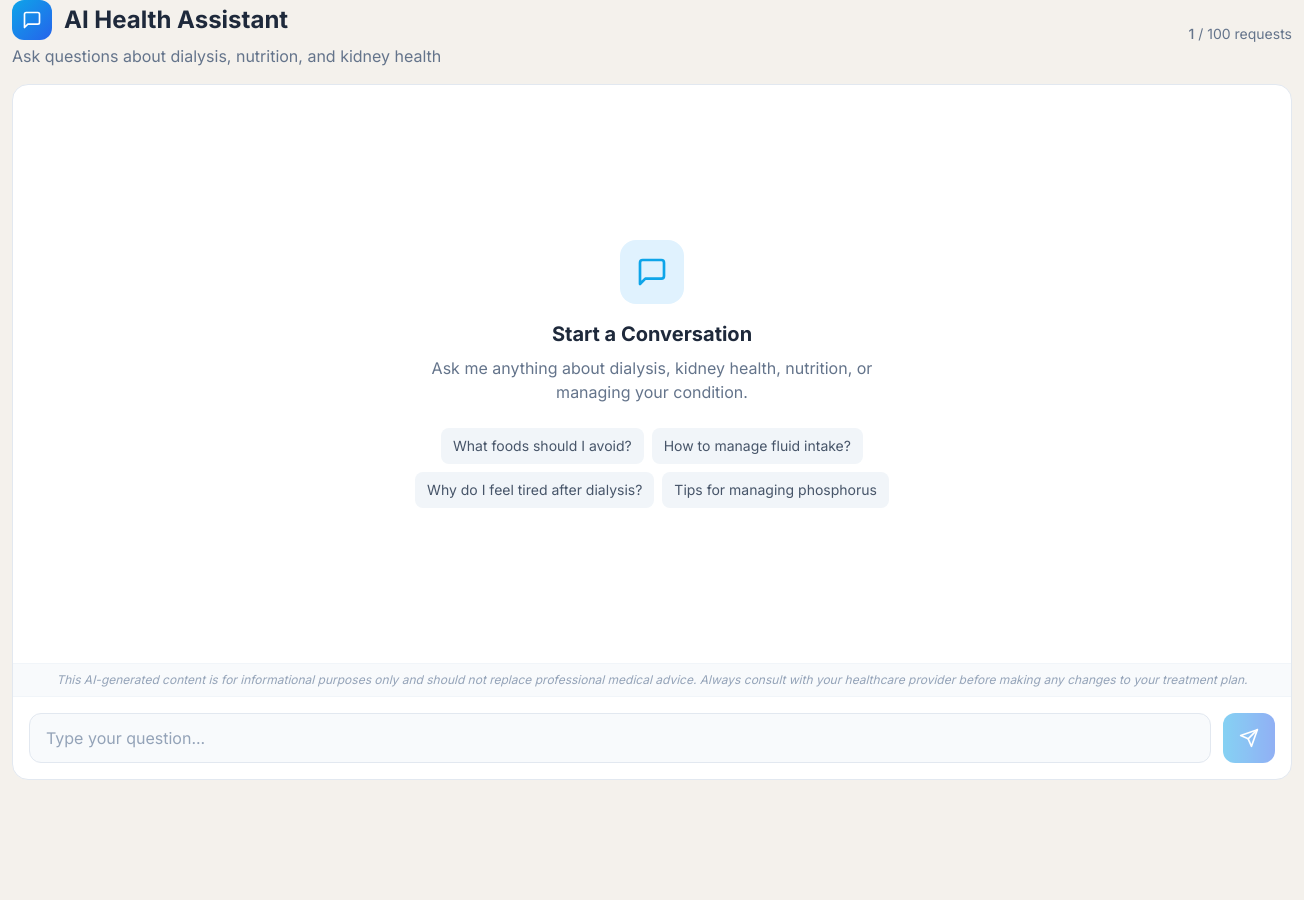
it: AI rate-limit + feature-gate error paths › AIChat: SubscriptionLimitError renders limit UI, not ErrorBoundary
Type "will hit the limit" into the text box with placeholder "Type your question...". click: point(620, 738)
box: [29,713,1211,763]
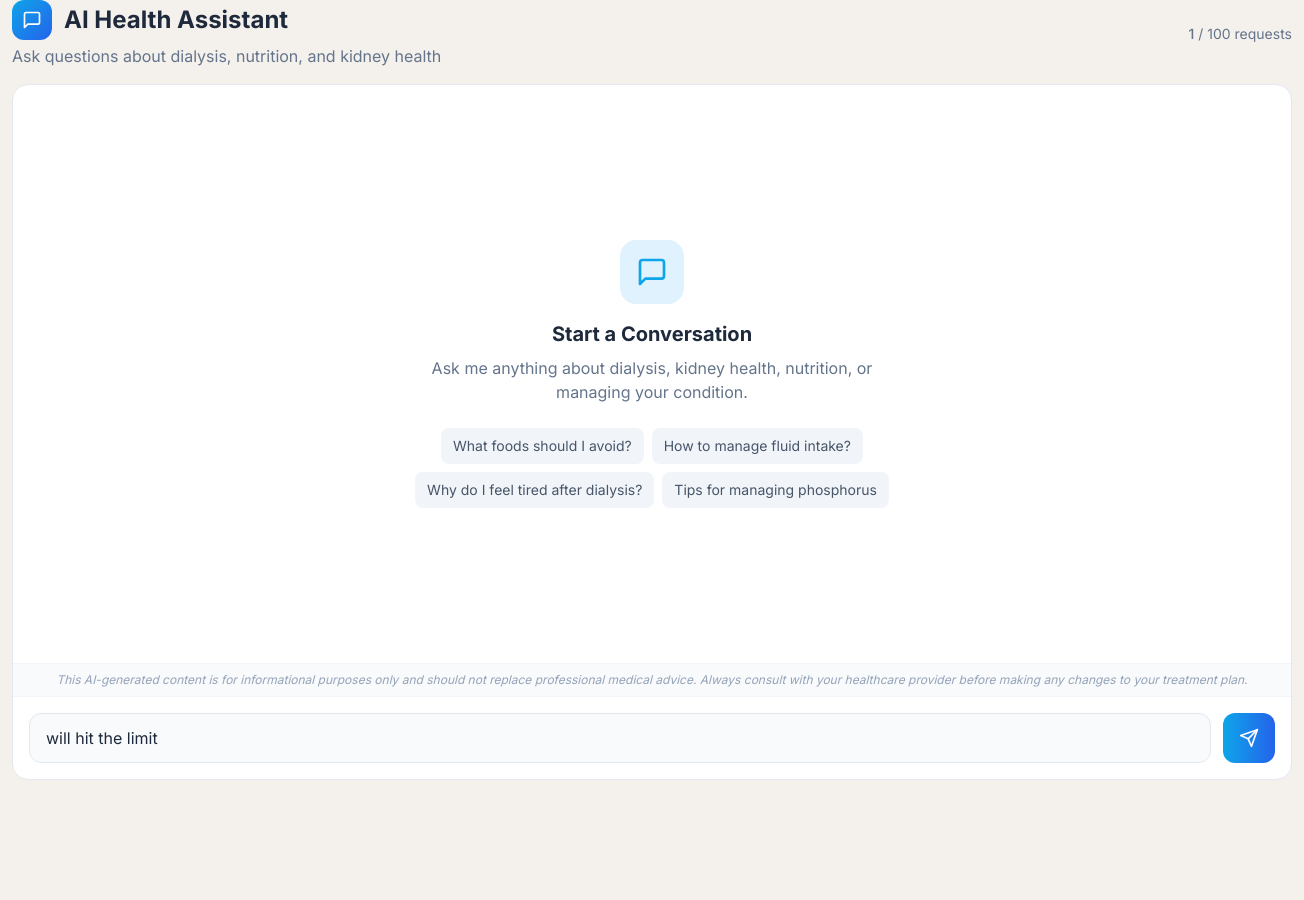
Click the 5th button. click: point(1249, 738)
box: [1223,713,1275,763]
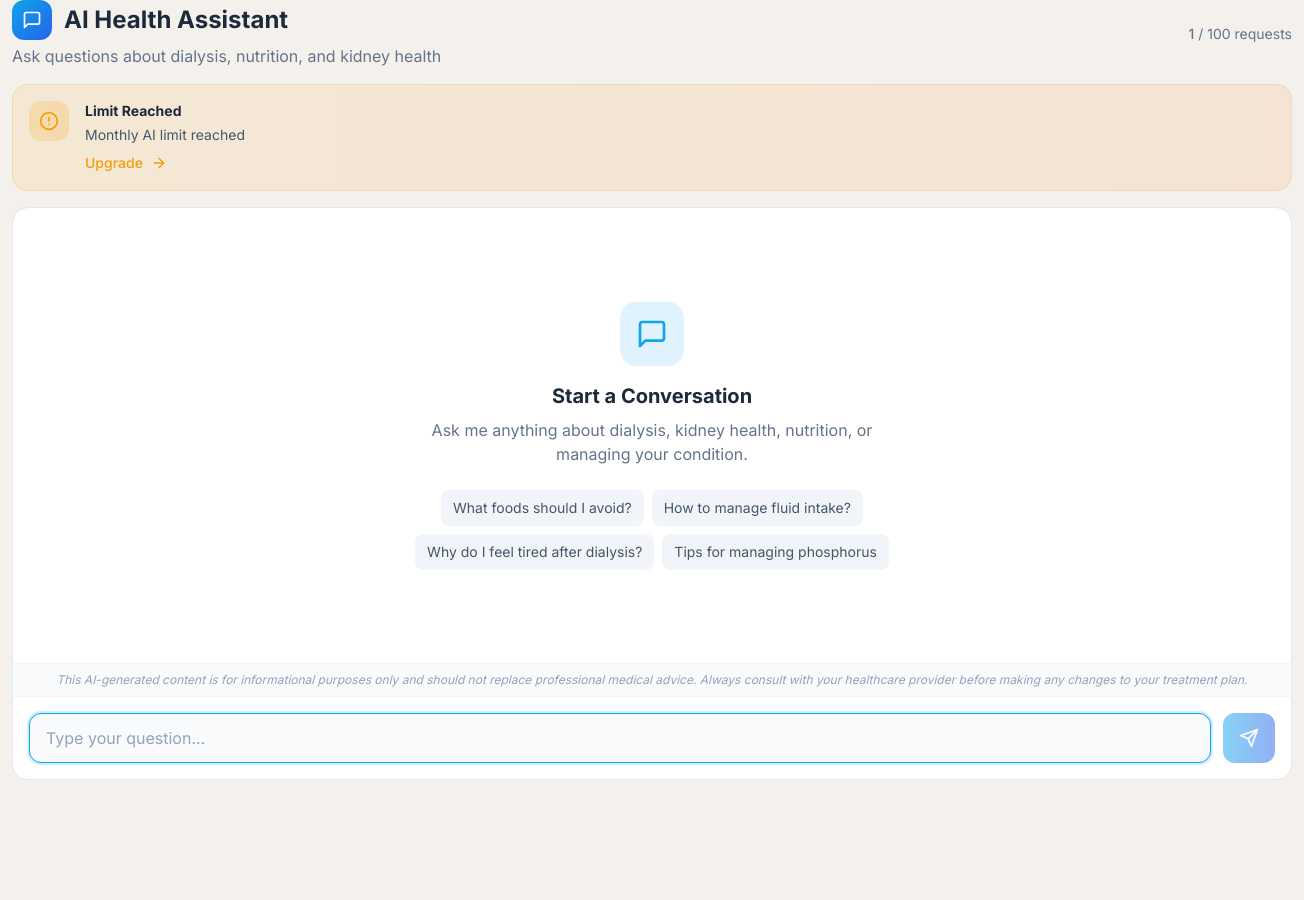
Now the text "Limit Reached" is shown, box [85,102,182,119]
